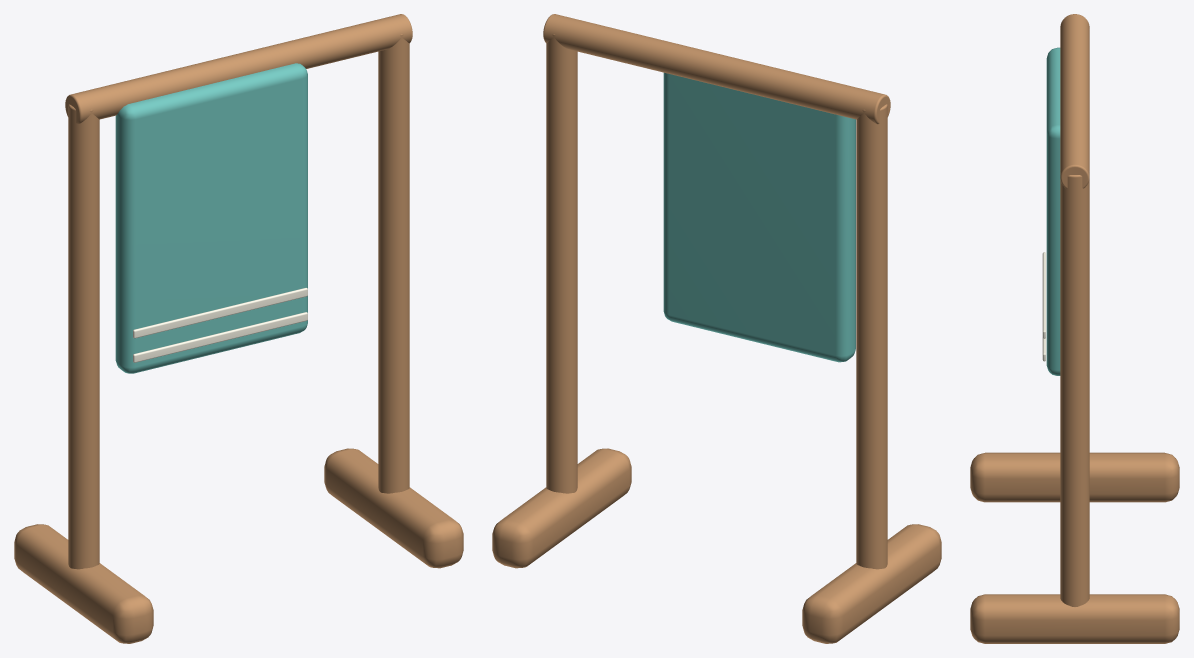
File: bathroomTowelStand.glb
3 views of the same model, side by side, from view 1: azimuth 30°, elevation 25°; view 2: azimuth 150°, elevation 25°; view 3: azimuth 270°, elevation 25° (orthographic). The views are drawn at different scales.
Visible parts, largest first — view 1: Hanging bath towel, Towel upright, Towel upright.001, Towel rail, Stand foot.001, Stand foot, Towel border, Towel border.001; view 2: Hanging bath towel, Towel upright, Towel upright.001, Towel rail, Stand foot.001, Stand foot; view 3: Towel upright.001, Stand foot.001, Stand foot, Towel rail, Hanging bath towel, Towel border.001.
Part boxes in pixels (x1,y1,x2,y2): Hanging bath towel: (115, 63, 307, 373); Towel upright: (68, 104, 99, 569); Towel upright.001: (378, 34, 409, 493); Towel rail: (65, 14, 412, 124); Stand foot.001: (324, 448, 463, 568); Stand foot: (14, 524, 153, 643); Towel border: (133, 312, 307, 362); Towel border.001: (133, 287, 307, 338); Hanging bath towel: (663, 72, 855, 362); Towel upright: (856, 104, 887, 569); Towel upright.001: (546, 34, 577, 493); Towel rail: (543, 14, 890, 124); Stand foot.001: (492, 448, 631, 568); Stand foot: (802, 524, 941, 643); Towel upright.001: (1060, 171, 1089, 606); Stand foot.001: (970, 594, 1179, 643); Stand foot: (970, 452, 1179, 502); Towel rail: (1060, 14, 1089, 188); Hanging bath towel: (1046, 47, 1060, 375); Towel border.001: (1042, 252, 1045, 338).
Size of the model in its own units: 0.9 by 1.27 by 0.5.
